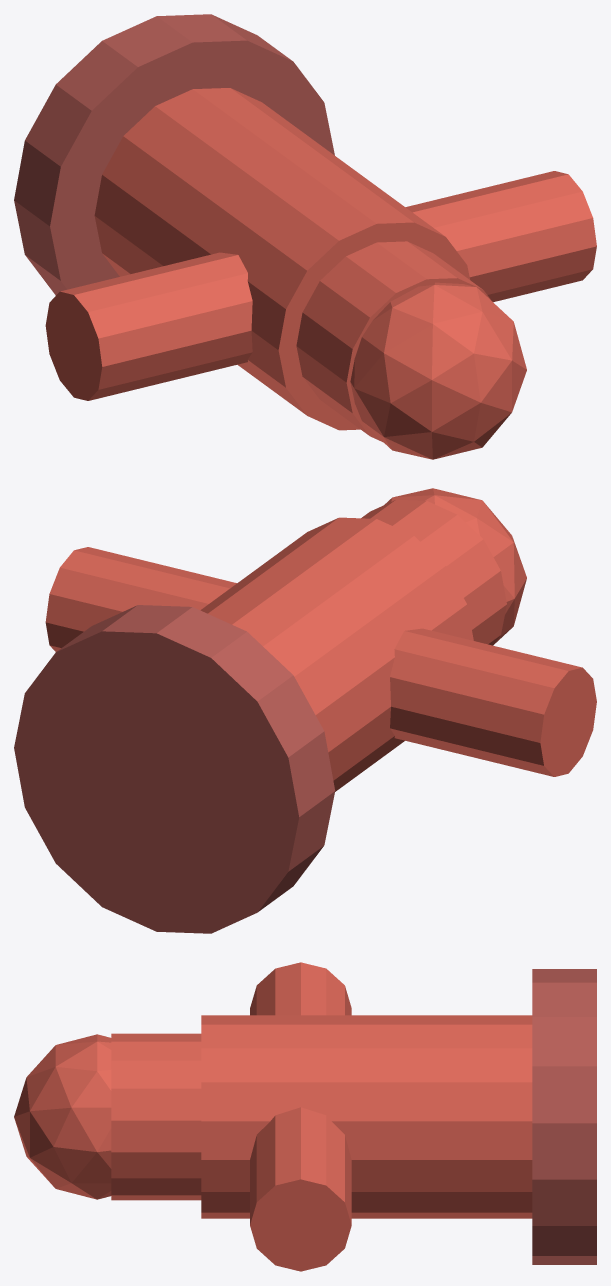
Rendered from city_fire_hydrant_red.glb.
The picture shows the model from 3 angles, top to bottom: view 1: azimuth 30°, elevation 25°; view 2: azimuth 150°, elevation 25°; view 3: azimuth 270°, elevation 25°; orthographic projection. The views are drawn at different scales.
Visible parts, largest first — view 1: body, base, dome, side_left, side_right, top_cap; view 2: base, body, side_left, side_right, top_cap, dome; view 3: body, base, top_cap, side_right, dome, side_left.
Boxes of the visible parts, <box> form: body: <box>94,88,469,430</box>; base: <box>14,14,334,295</box>; dome: <box>350,282,526,459</box>; side_left: <box>45,252,252,400</box>; side_right: <box>405,171,596,302</box>; top_cap: <box>296,241,491,442</box>; base: <box>14,605,335,933</box>; body: <box>200,517,473,791</box>; side_left: <box>390,628,596,776</box>; side_right: <box>45,547,236,651</box>; top_cap: <box>361,499,506,645</box>; dome: <box>384,488,526,645</box>; body: <box>201,1015,532,1218</box>; base: <box>532,969,596,1264</box>; top_cap: <box>111,1033,201,1200</box>; side_right: <box>250,1107,351,1271</box>; dome: <box>14,1034,111,1199</box>; side_left: <box>250,962,351,1015</box>.
Size of the model in its own units: 1.11 by 0.64 by 1.26.
